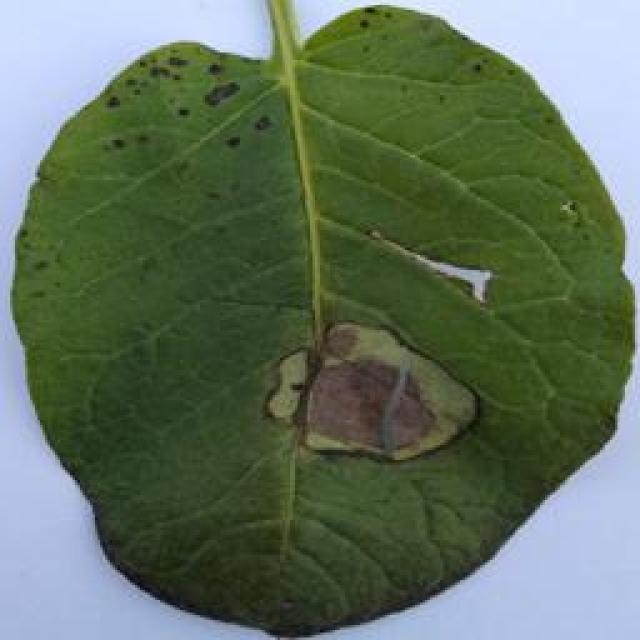Potato_Late_Blight: (14, 8, 625, 634)
